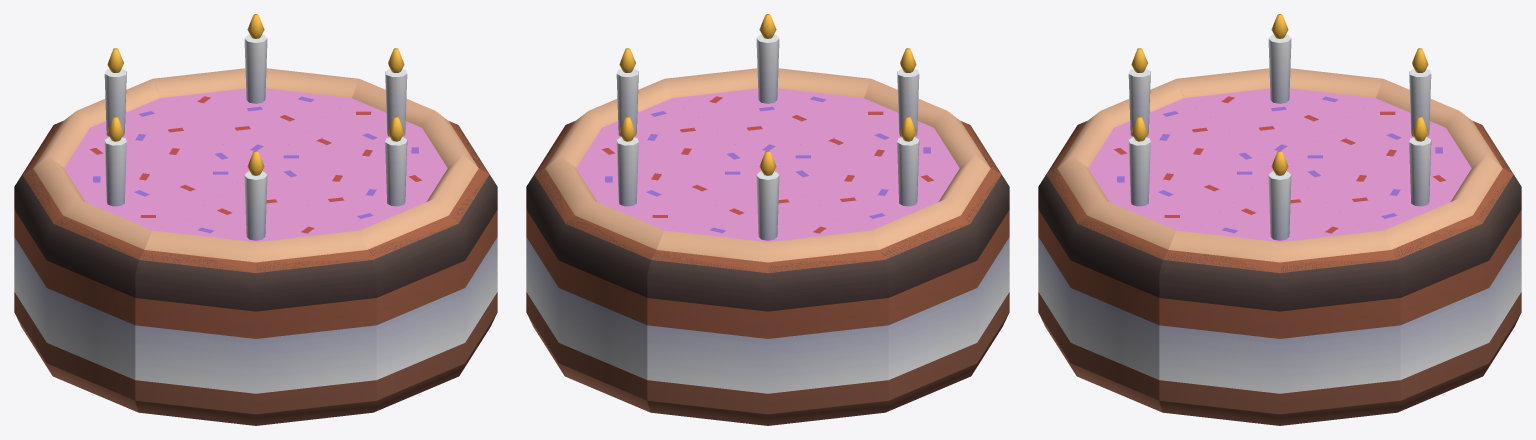
File: fodelsedagstarta.glb
3 views of the same model, side by side, from view 1: azimuth 30°, elevation 25°; view 2: azimuth 150°, elevation 25°; view 3: azimuth 270°, elevation 25° (orthographic).
Parts seen in each view (by area): view 1: slice (×6); view 2: slice (×6); view 3: slice (×6).
Part boxes in pixels (<box>): slice (×6): <box>14,14,497,425</box>; slice (×6): <box>526,14,1009,425</box>; slice (×6): <box>1038,14,1521,425</box>.
Size of the model in its own units: 0.6392 by 0.3638 by 0.6392.
Materials: 1 (1 with a texture image).
